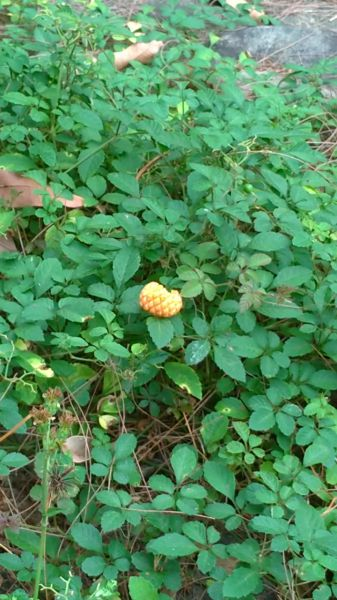eggs: (132, 274, 187, 324)
